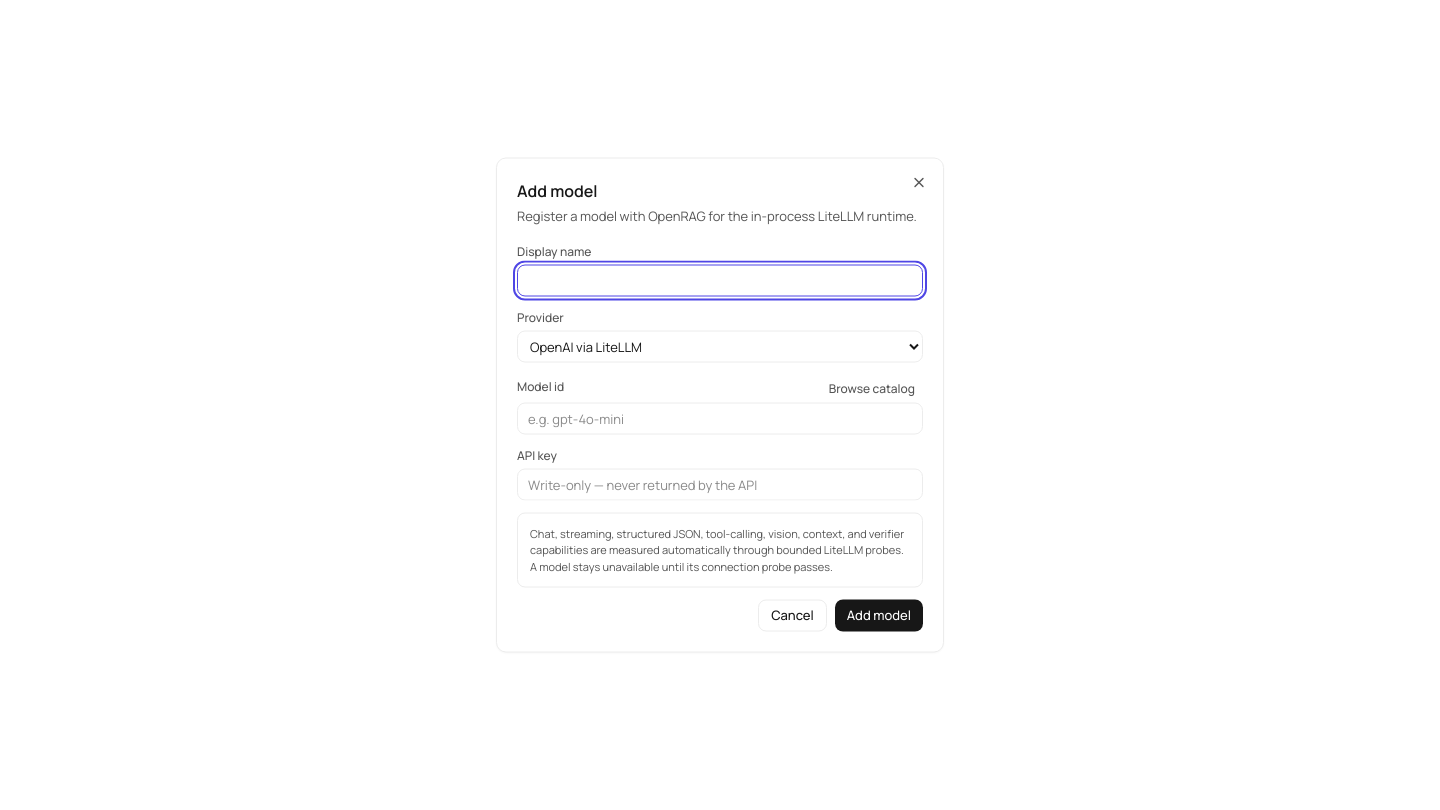
Test: shows the backend problem detail when model registration fails
Type "GPT-5.6 Luna" into the field labelled "Display name" at [720, 280], box [517,264,923,296]
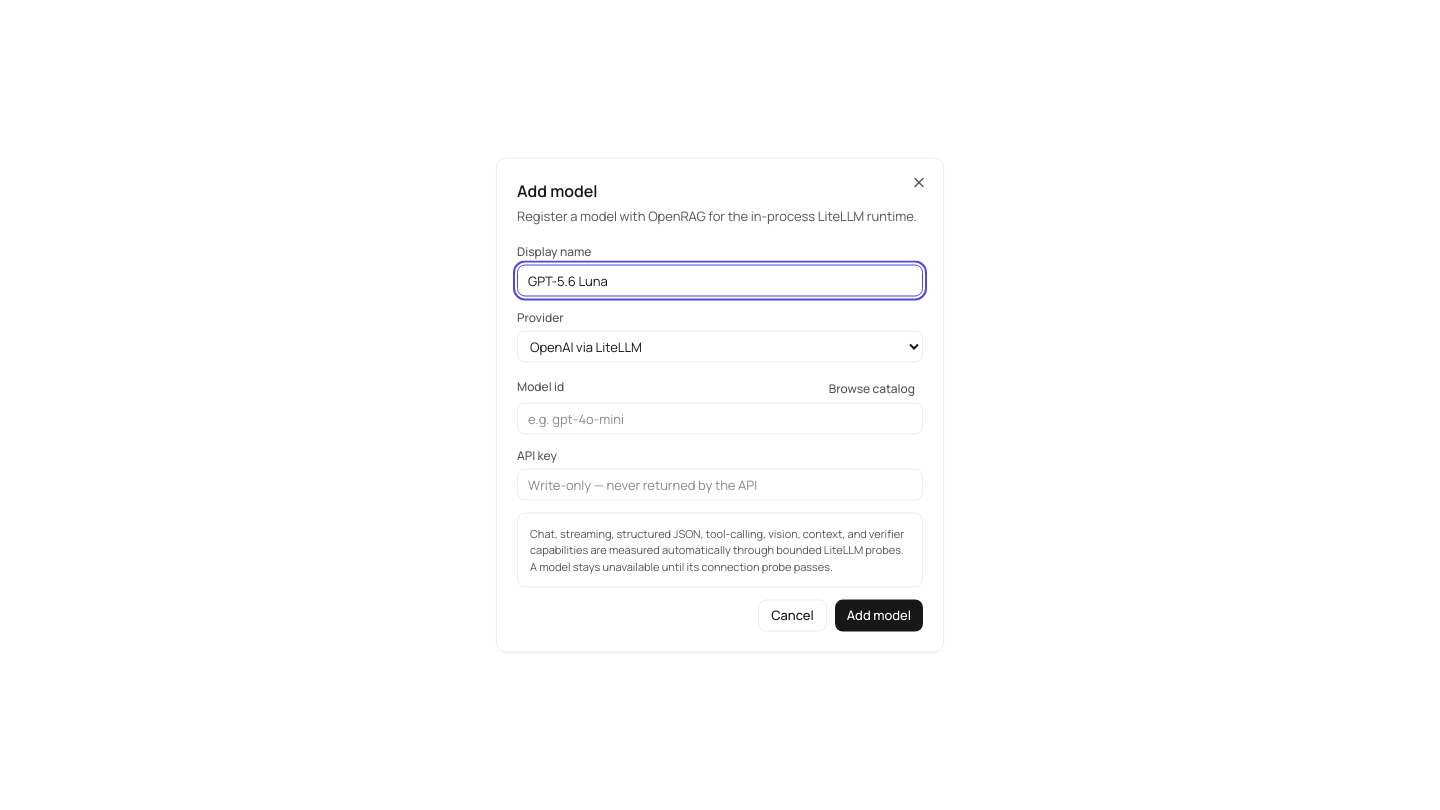
Type "gpt-5.6-luna" into the field labelled "Model id" at [720, 418], box [517,402,923,434]
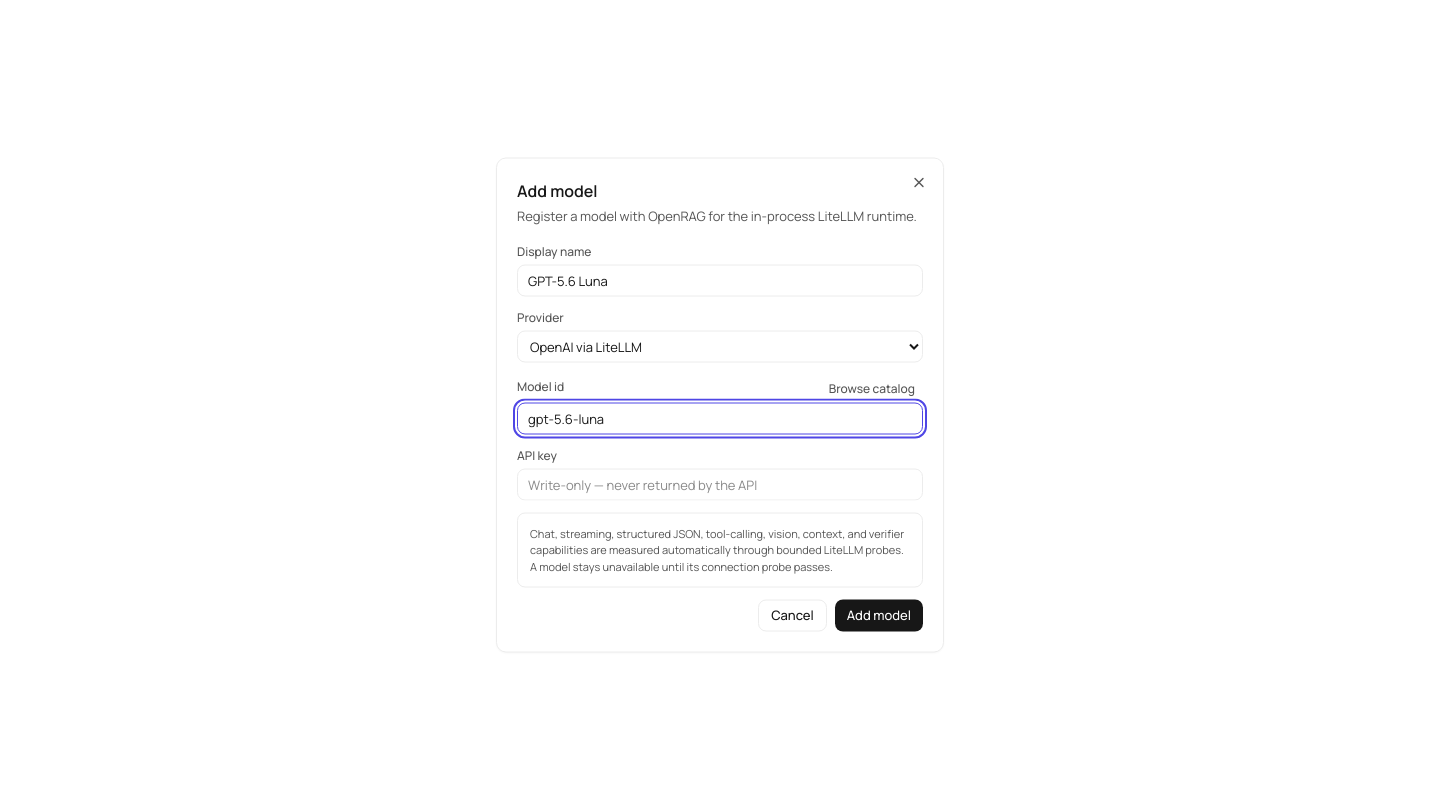
Type "sk-write-only" into the password field labelled "API key" at [720, 484], box [517,468,923,500]
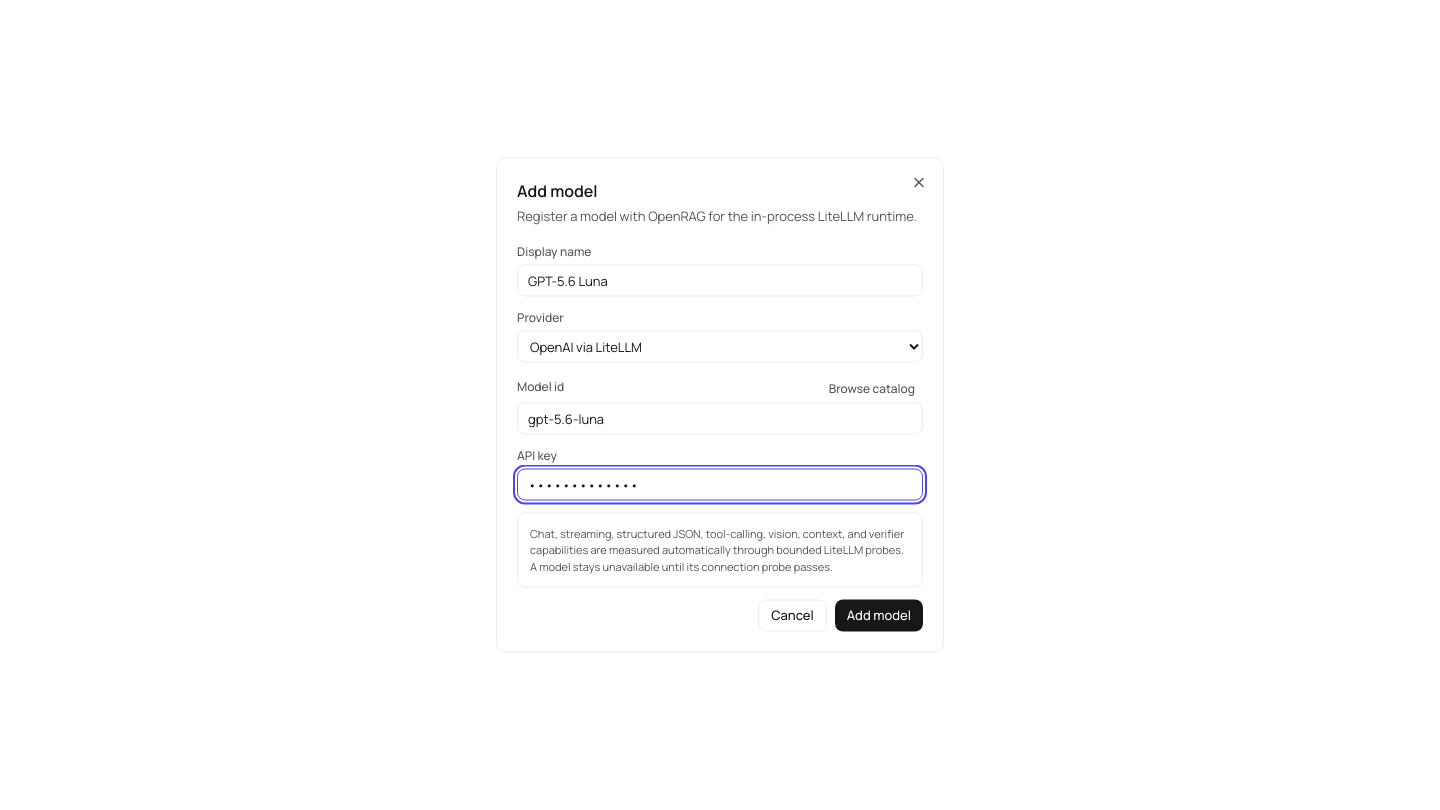
Click the button "Add model" at [879, 616], box [835,600,923,632]
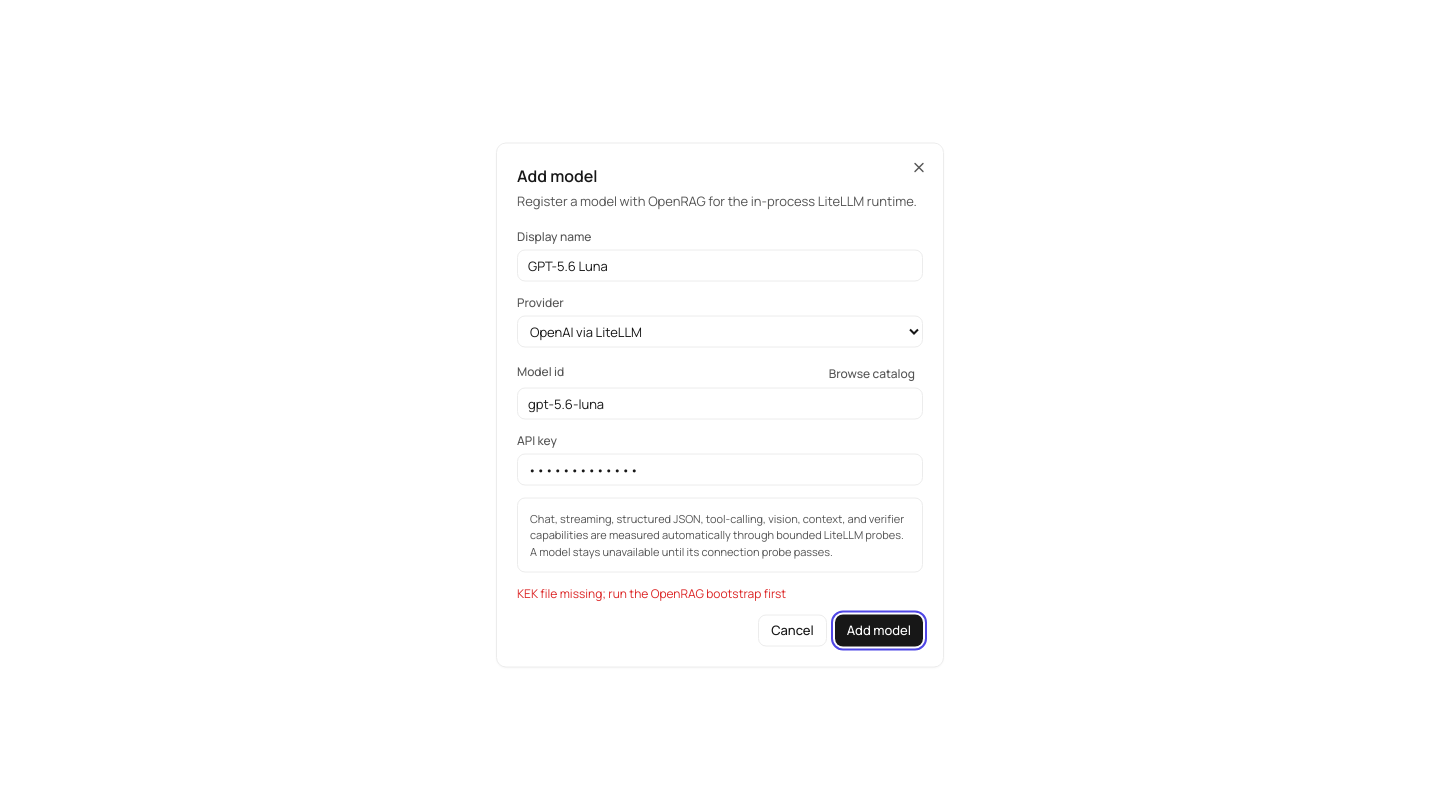
Now the message reads "KEK file missing; run the OpenRAG bootstrap first", box [517,584,786,602]
